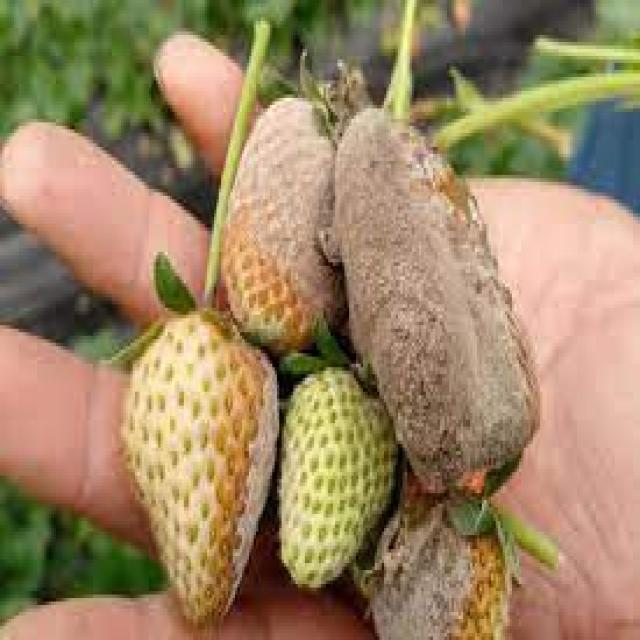Moho gris: (340, 112, 532, 488), (122, 308, 268, 600), (225, 94, 342, 355), (384, 440, 534, 640), (278, 351, 389, 572)
